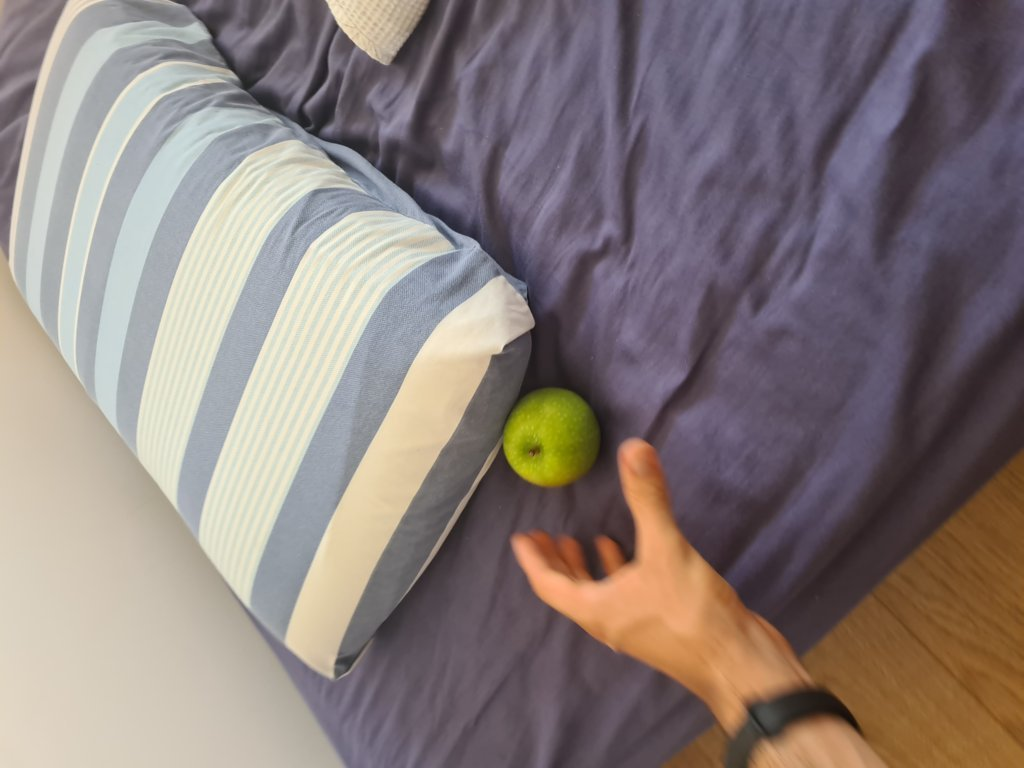apple: (499, 399, 604, 474)
